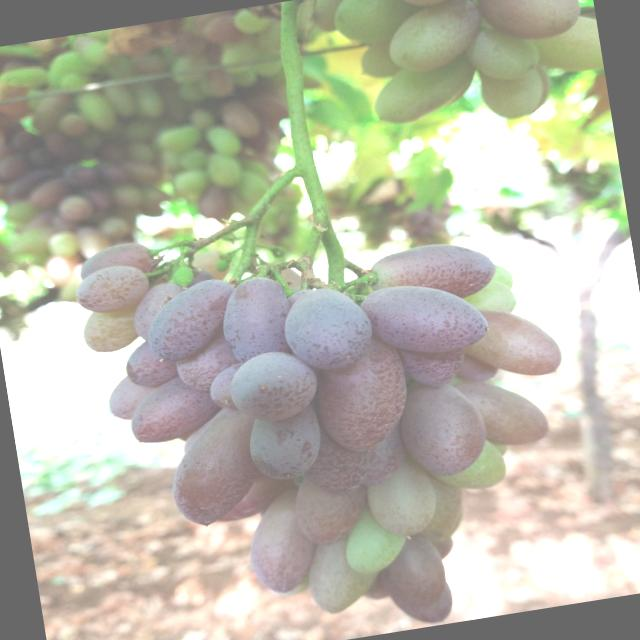grapes: (162, 403, 276, 531), (311, 333, 416, 458), (358, 272, 491, 362), (398, 370, 492, 481), (366, 235, 500, 312), (458, 298, 566, 388), (450, 364, 552, 454), (141, 276, 244, 364), (241, 484, 321, 597), (281, 282, 378, 374), (370, 56, 481, 128), (124, 370, 225, 448), (381, 0, 486, 75), (226, 346, 320, 424), (217, 274, 298, 364), (304, 532, 384, 616), (362, 461, 443, 542), (244, 406, 328, 484), (289, 472, 374, 549), (298, 435, 382, 504), (338, 502, 414, 578), (380, 532, 450, 612), (474, 0, 585, 48), (523, 14, 604, 79), (171, 326, 245, 396), (465, 22, 544, 85), (330, 0, 429, 50), (104, 367, 184, 423), (433, 436, 509, 494), (74, 262, 152, 318), (209, 471, 290, 524), (398, 336, 470, 391), (387, 574, 457, 630), (130, 280, 190, 344), (478, 66, 542, 122), (78, 239, 158, 282), (80, 304, 143, 356), (121, 336, 179, 392), (361, 422, 412, 484), (413, 484, 462, 540), (458, 278, 520, 320), (208, 361, 252, 413), (175, 248, 232, 286), (76, 89, 120, 136), (203, 148, 246, 192), (358, 40, 404, 81), (222, 100, 260, 142), (456, 350, 501, 384), (28, 178, 68, 211), (180, 418, 217, 453), (202, 14, 242, 46), (0, 65, 49, 91), (532, 65, 558, 112), (160, 125, 202, 154), (206, 124, 242, 157), (138, 82, 168, 121), (196, 187, 230, 220), (234, 8, 274, 36), (64, 162, 100, 192), (172, 168, 209, 195), (173, 54, 206, 84), (2, 200, 40, 226), (58, 194, 92, 223), (428, 534, 458, 562), (488, 260, 516, 290), (114, 183, 144, 211), (100, 217, 134, 241), (274, 580, 312, 600), (360, 576, 390, 601), (50, 232, 78, 258), (391, 0, 468, 9), (58, 72, 82, 96), (288, 288, 316, 307), (0, 146, 7, 172), (621, 513, 623, 514)
